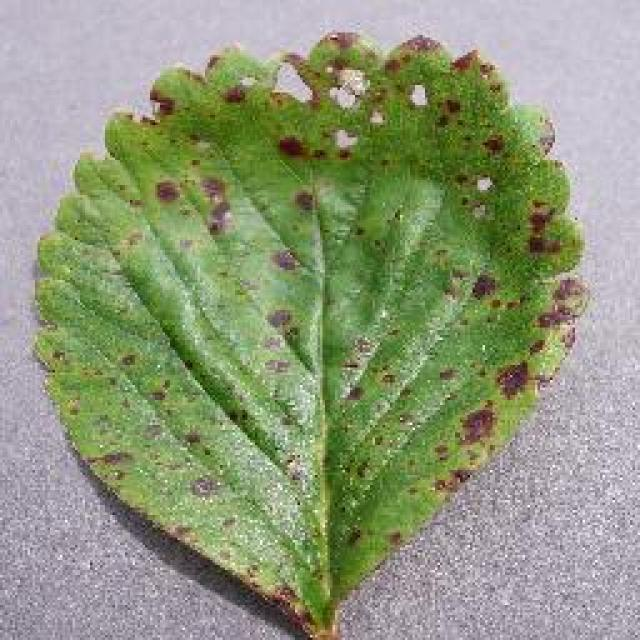Strawberry leaf scorch: (95, 32, 517, 515)
